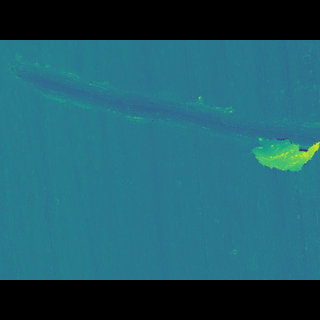Loch: (2, 82, 320, 172), (243, 140, 320, 171)
